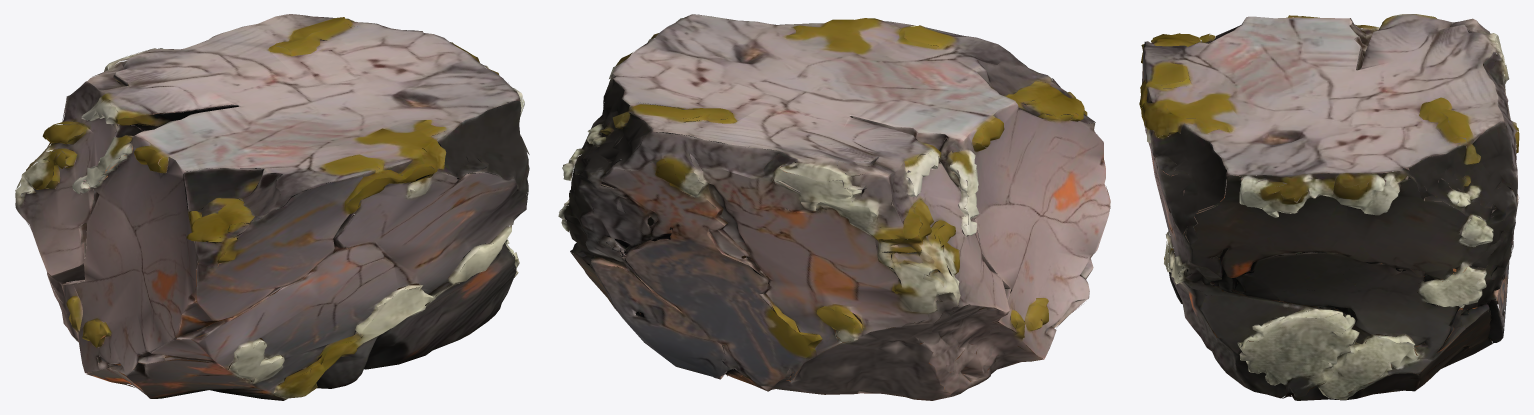
The model's file is roca_grande2.glb.
3 views of the same model, side by side, from view 1: azimuth 30°, elevation 25°; view 2: azimuth 150°, elevation 25°; view 3: azimuth 270°, elevation 25° (orthographic).
Visible parts, largest first — view 1: geometry_0; view 2: geometry_0; view 3: geometry_0.
Part boxes in pixels (x1,y1,x2,y2): geometry_0: [15, 14, 529, 400]; geometry_0: [558, 14, 1110, 400]; geometry_0: [1139, 14, 1519, 400].
Size of the model in its own units: 4.01 by 2.21 by 3.2.
1 material, 1 textured.
